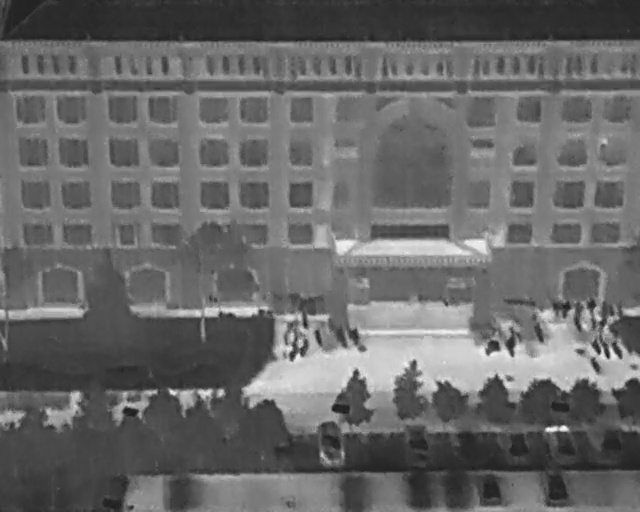Bicycle: (346, 325, 368, 355), (333, 324, 352, 351), (530, 321, 548, 346), (294, 336, 313, 359), (572, 301, 585, 331), (610, 337, 626, 361), (598, 338, 613, 361), (483, 339, 502, 357), (310, 327, 326, 348), (559, 299, 573, 321), (588, 337, 604, 356), (504, 335, 517, 357), (588, 356, 603, 375), (594, 317, 608, 336), (286, 343, 299, 361), (585, 296, 596, 316), (599, 299, 610, 319), (550, 300, 562, 317), (282, 323, 291, 344), (300, 308, 309, 327), (292, 323, 300, 343), (616, 300, 624, 319), (589, 316, 598, 331)
Car: (311, 418, 350, 469), (540, 418, 580, 466), (401, 421, 432, 468), (540, 466, 572, 507), (475, 471, 503, 507)
